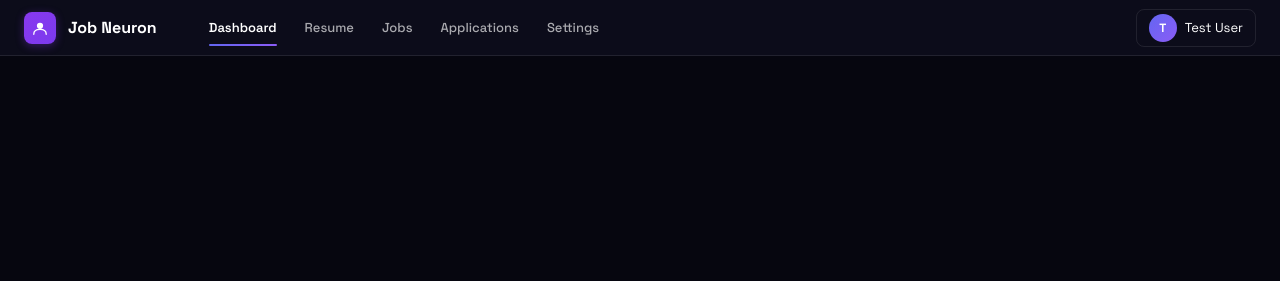
TopNav › shows admin panel option in dropdown when isAdmin
This screenshot has width=1280, height=281.
Click the button "T Test User" at {"x": 1196, "y": 28}, box [1136,8,1256,46]
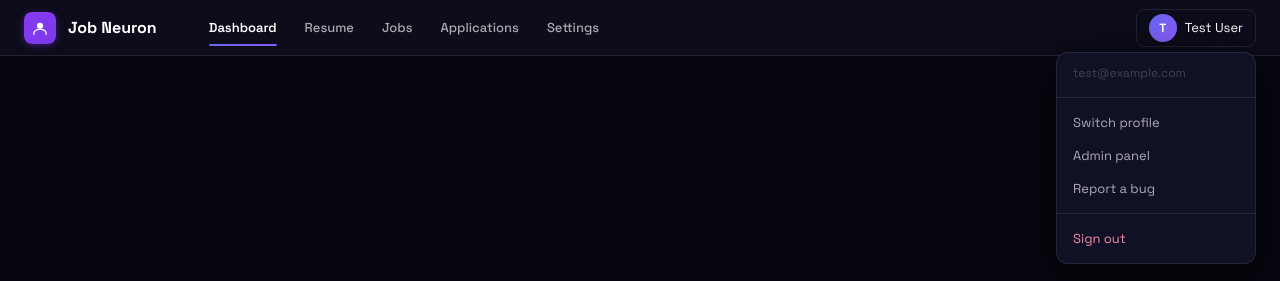
Check: the button "Admin panel" is shown, box [1057,139,1255,172]
